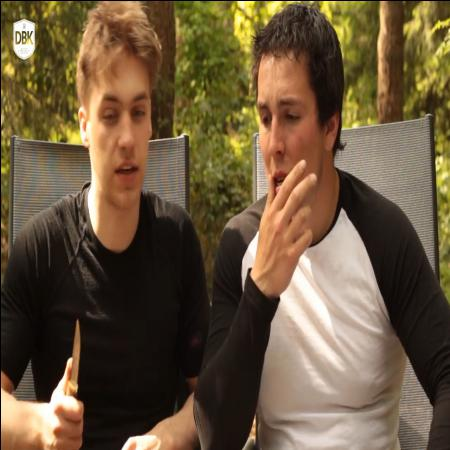long weapon: (43, 300, 94, 450)
